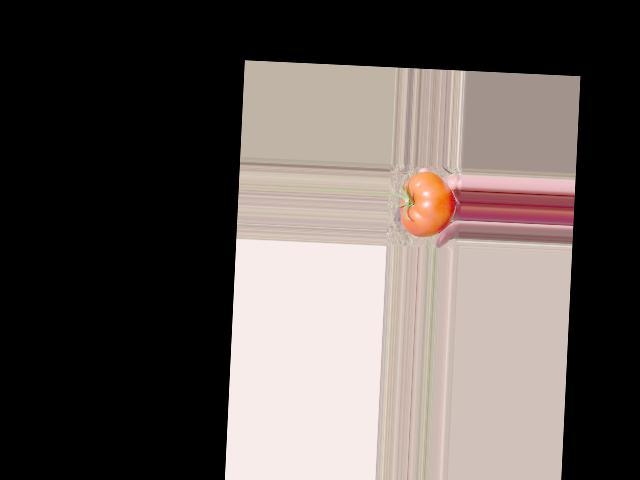tomato: (398, 170, 457, 238)
